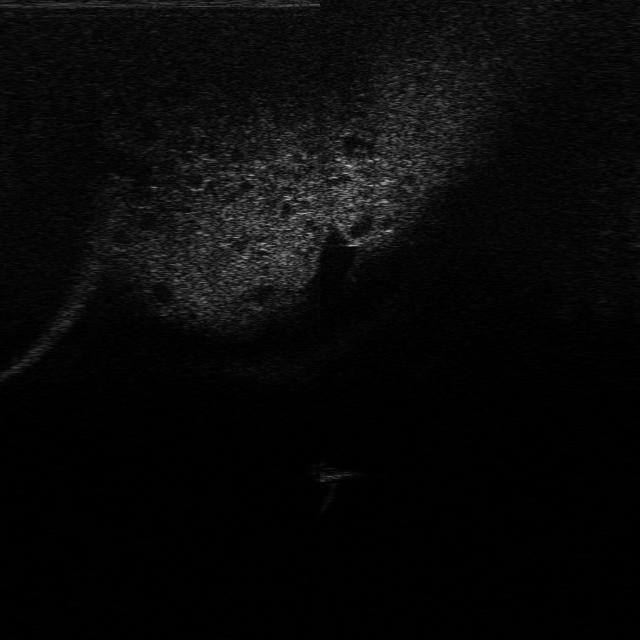cube: (301, 458, 368, 484)
